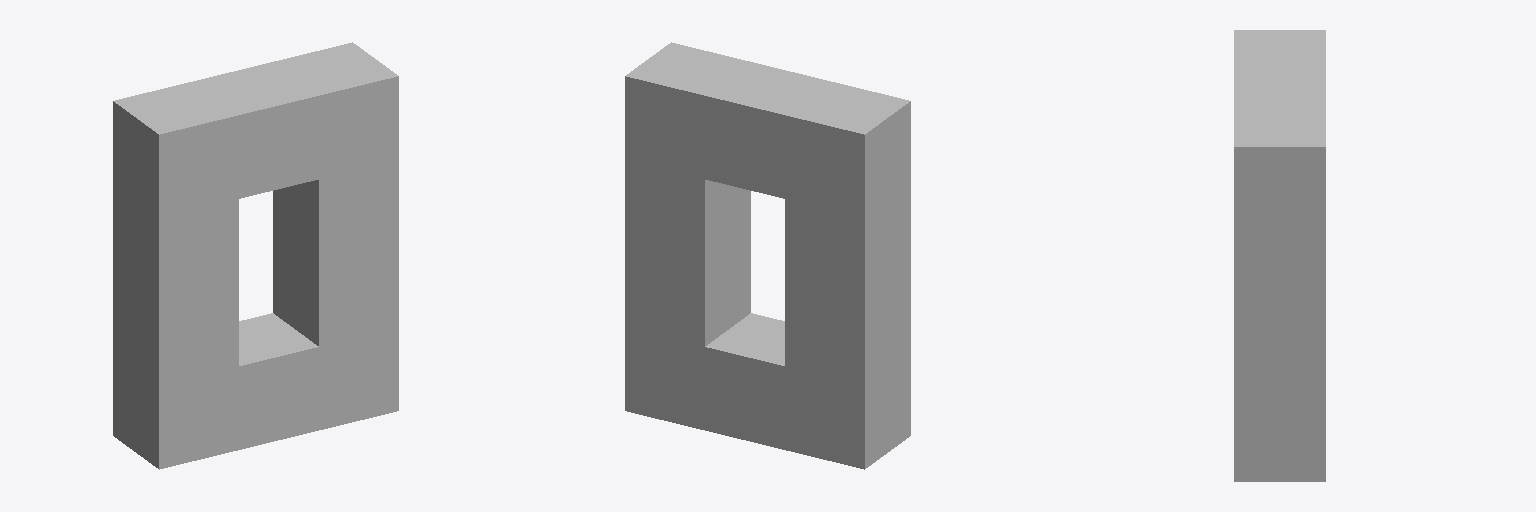
File: Trap_Wall-1.obj
The picture shows the model from 3 angles: view 1: azimuth 30°, elevation 25°; view 2: azimuth 150°, elevation 25°; view 3: azimuth 270°, elevation 25°; orthographic projection.
Visible parts, largest first — view 1: Trap_Wall-1.001; view 2: Trap_Wall-1.001; view 3: Trap_Wall-1.001.
Boxes of the visible parts, x1,y1,x2,y2 form: Trap_Wall-1.001: [113, 42, 398, 469]; Trap_Wall-1.001: [625, 42, 910, 469]; Trap_Wall-1.001: [1234, 30, 1325, 481].
Size of the model in its own units: 0.6 by 0.8 by 0.2.